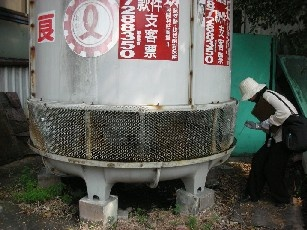water_tower: (29, 1, 239, 200)
